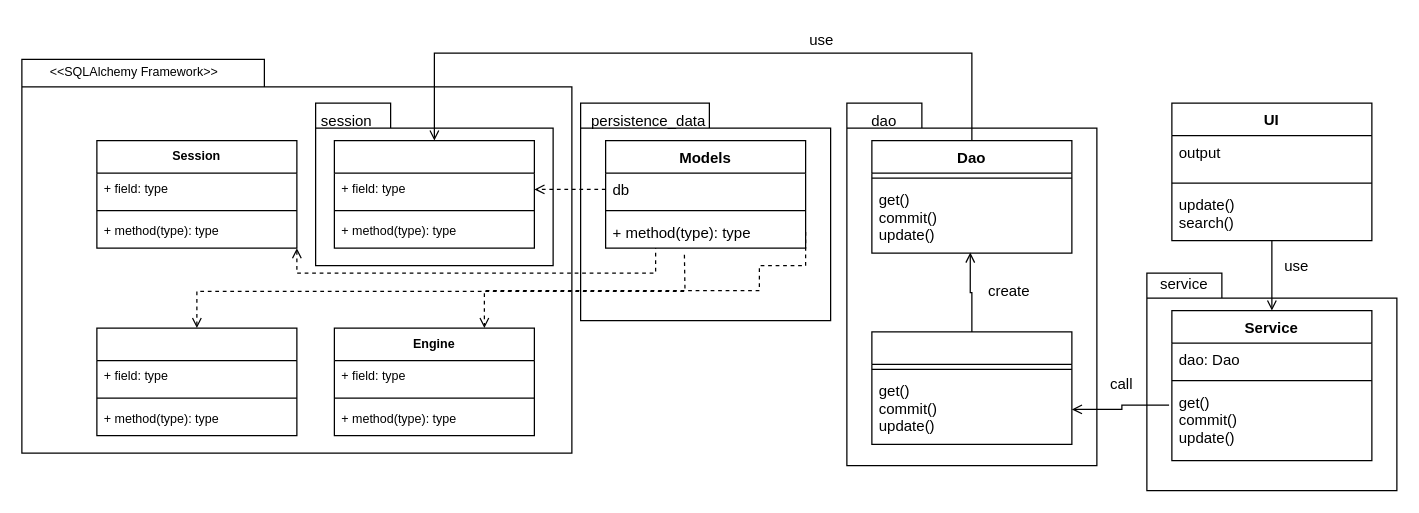
This 1419x513 diagram has some shape labels left out. Here are the shapes that lost their labels. From the top down, the box of each, then its label:
(333, 139, 534, 248): Sessionmaker
(96, 327, 297, 436): Base
(871, 331, 1072, 444): DaoFactory
